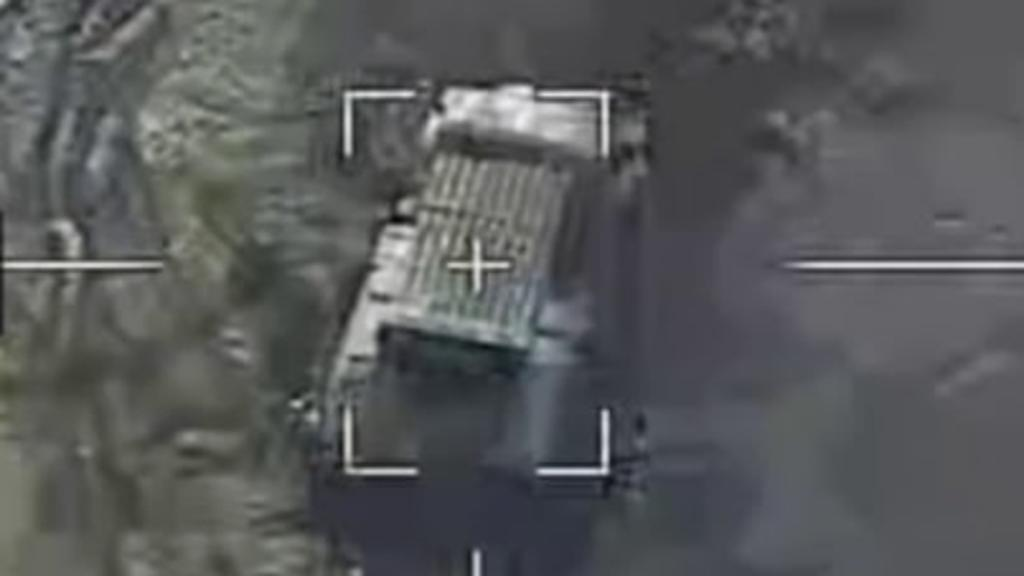MLRS: (302, 58, 650, 498)
